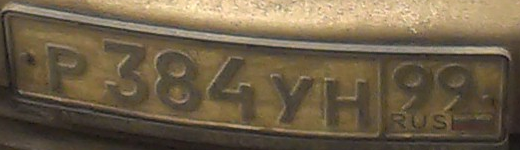character: (204, 47, 260, 129), (98, 34, 153, 117), (154, 46, 205, 124), (265, 66, 316, 133), (318, 73, 372, 135), (44, 41, 90, 104), (434, 59, 479, 117), (391, 59, 435, 117)
